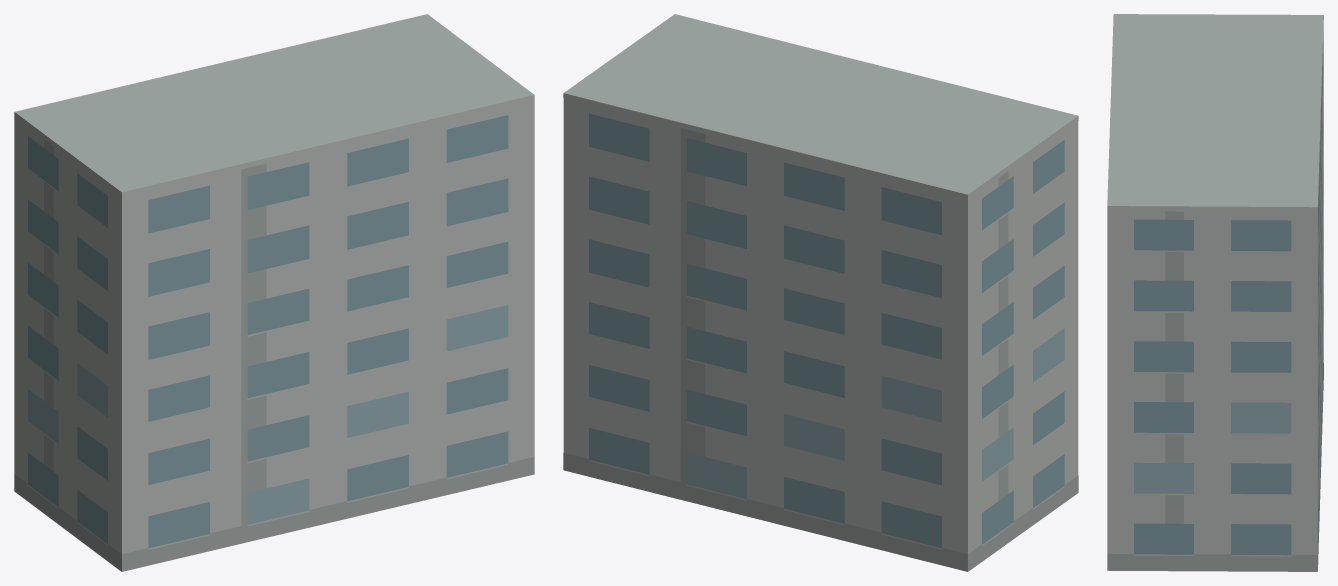
The model's file is survey-upis-32840577.glb.
3 views of the same model, side by side, from view 1: azimuth 30°, elevation 25°; view 2: azimuth 150°, elevation 25°; view 3: azimuth 270°, elevation 25° (orthographic). The views are drawn at different scales.
Parts seen in each view (by area): view 1: survey-upis-32840577.tmp; view 2: survey-upis-32840577.tmp; view 3: survey-upis-32840577.tmp.
Part boxes in pixels (x1,y1,x2,y2): survey-upis-32840577.tmp: (14,14,534,571); survey-upis-32840577.tmp: (563,14,1078,571); survey-upis-32840577.tmp: (1107,14,1323,571).
Bounding box in the file's own units: 19.77 × 17.4 × 9.37.
